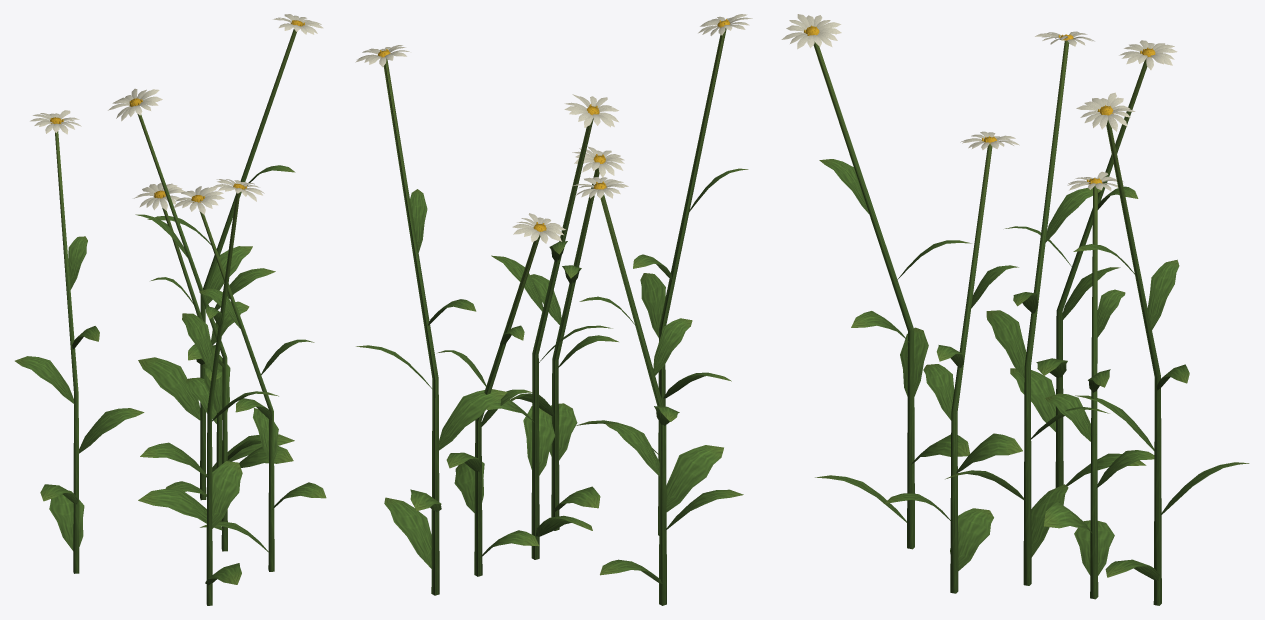
File: OxeyeDaisy_C.fbx
3 views of the same model, side by side, from view 1: azimuth 30°, elevation 25°; view 2: azimuth 150°, elevation 25°; view 3: azimuth 270°, elevation 25° (orthographic). The views are drawn at different scales.
Visible parts, largest first — view 1: OxeyeDaisy_C_LOD0; view 2: OxeyeDaisy_C_LOD0; view 3: OxeyeDaisy_C_LOD0.
Part boxes in pixels (x1,y1,x2,y2): OxeyeDaisy_C_LOD0: (15, 14, 326, 605); OxeyeDaisy_C_LOD0: (355, 14, 752, 605); OxeyeDaisy_C_LOD0: (781, 14, 1249, 605).
Size of what is drawn, in the model's own units: 25.51 by 36.69 by 28.91.
Materials: 1 (1 with a texture image).
